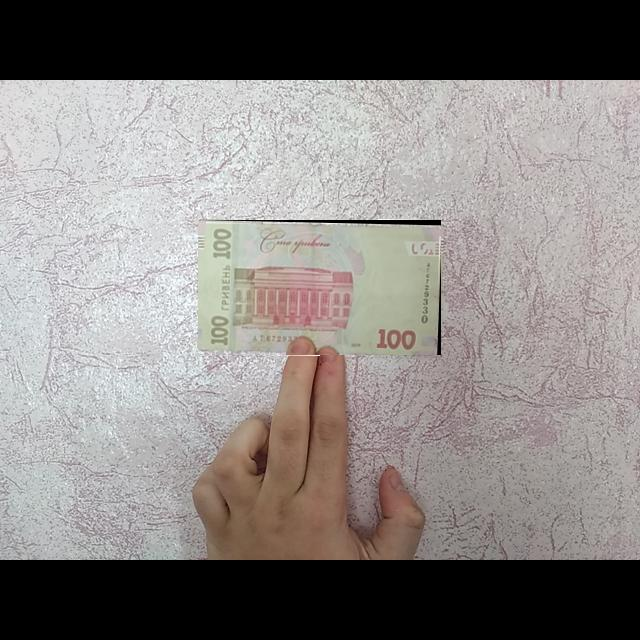100uah: (198, 220, 442, 356)
